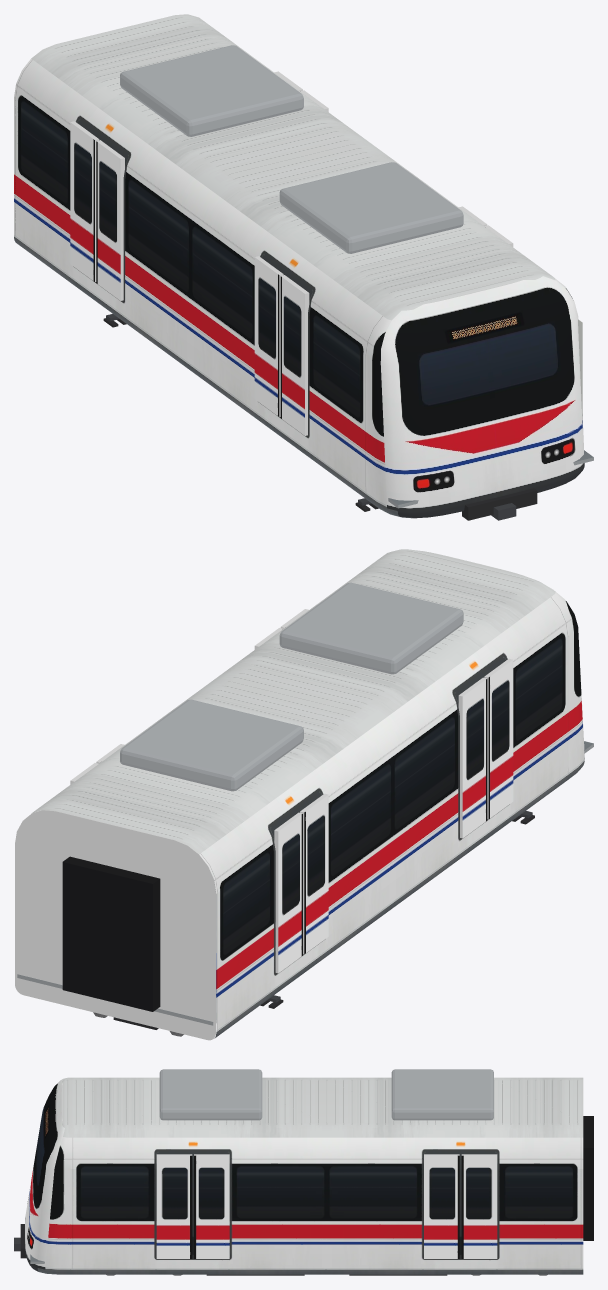
The model's file is LM_LRT_Train.glb.
3 views of the same model, one above another, from view 1: azimuth 30°, elevation 25°; view 2: azimuth 150°, elevation 25°; view 3: azimuth 270°, elevation 25° (orthographic). The views are drawn at different scales.
Parts seen in each view (by area): view 1: cab | LRT Innovia, roof, mid | LRT Innovia, door_N_2_b, door_N_1_b, door_N_1_a, door_N_2_a; view 2: roof, cab | LRT Innovia, mid | LRT Innovia, door_N_2_a, door_N_1_a, door_N_2_b, door_N_1_b; view 3: cab | LRT Innovia, roof, door_P_1_a, door_P_2_b, door_P_1_b, door_P_2_a, mid | LRT Innovia.
Part boxes in pixels (bbox=[...]): cab | LRT Innovia: bbox=[14, 98, 593, 520]; roof: bbox=[14, 14, 551, 355]; mid | LRT Innovia: bbox=[15, 101, 369, 509]; door_N_2_b: bbox=[280, 275, 309, 435]; door_N_1_b: bbox=[96, 140, 124, 300]; door_N_1_a: bbox=[70, 121, 99, 281]; door_N_2_a: bbox=[254, 256, 283, 416]; roof: bbox=[31, 551, 569, 893]; cab | LRT Innovia: bbox=[15, 549, 593, 1040]; mid | LRT Innovia: bbox=[15, 669, 568, 1039]; door_N_2_a: bbox=[458, 677, 487, 838]; door_N_1_a: bbox=[274, 812, 302, 973]; door_N_2_b: bbox=[484, 658, 513, 819]; door_N_1_b: bbox=[300, 793, 328, 954]; cab | LRT Innovia: bbox=[14, 1077, 593, 1275]; roof: bbox=[70, 1069, 583, 1168]; door_P_1_a: bbox=[461, 1154, 497, 1258]; door_P_2_b: bbox=[156, 1154, 192, 1258]; door_P_1_b: bbox=[424, 1154, 459, 1258]; door_P_2_a: bbox=[194, 1154, 229, 1258]; mid | LRT Innovia: bbox=[70, 1169, 583, 1227].
Bounding box in the file's own units: 3.91 × 4.26 × 13.01.
Materials: 1 (1 with a texture image).
